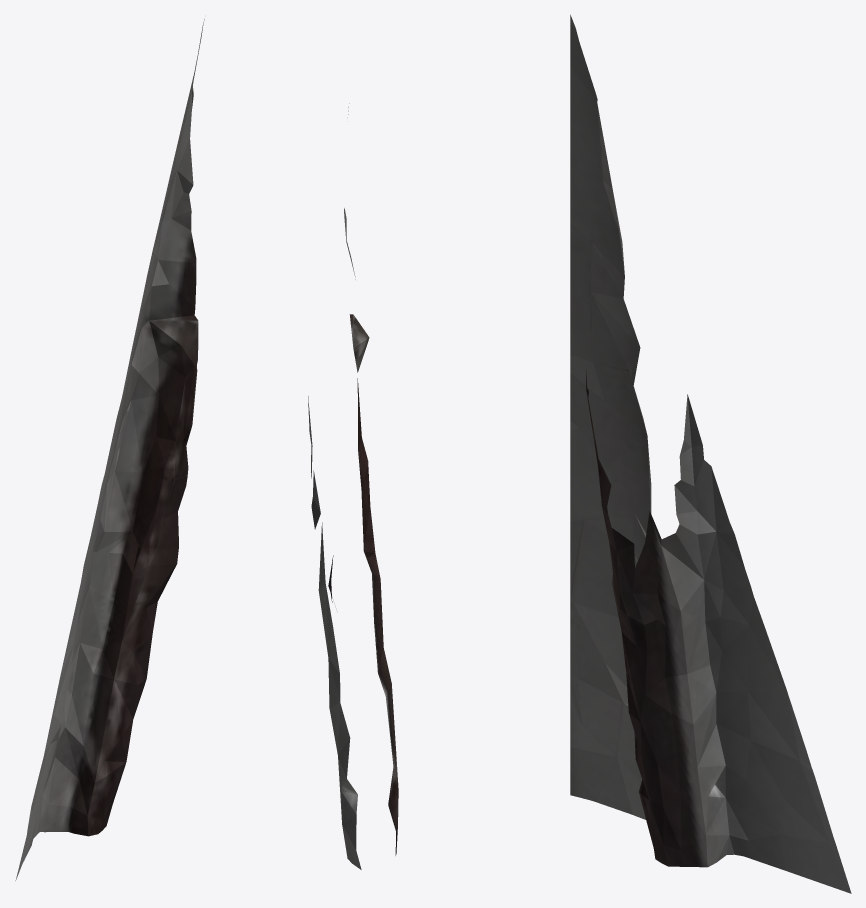
The picture shows the model from 3 angles, left to right: view 1: azimuth 30°, elevation 25°; view 2: azimuth 150°, elevation 25°; view 3: azimuth 270°, elevation 25°; orthographic projection. The views are drawn at different scales.
Bounding box in the file's own units: 0.3927 × 1.63 × 0.4727.
1 material, 1 textured.
